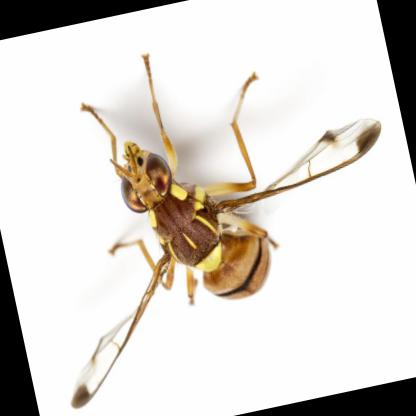fruit fly: (71, 54, 382, 411)
